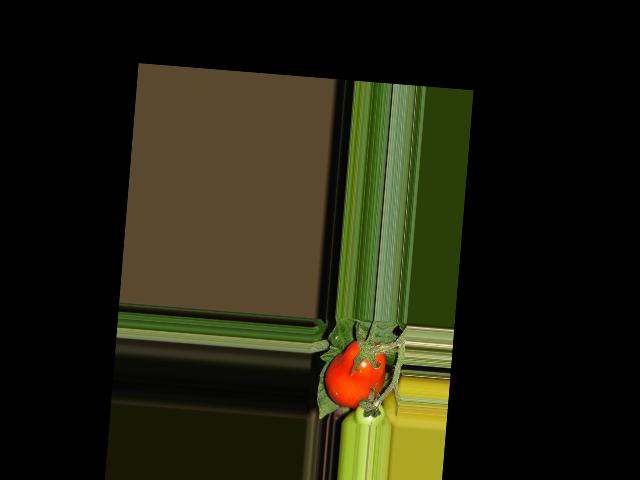tomato: (322, 336, 387, 410)
